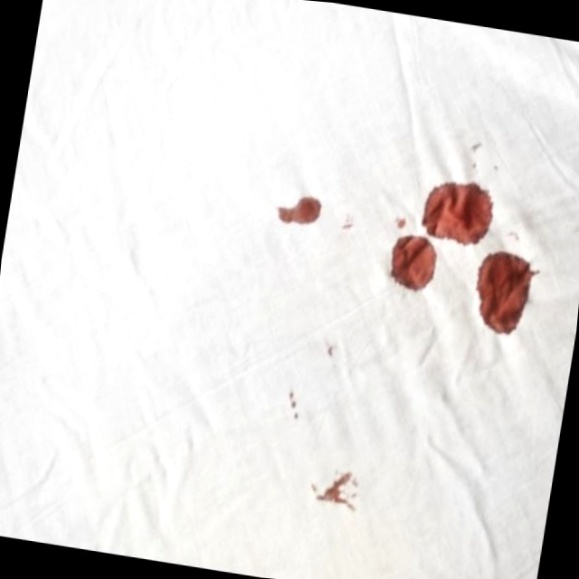blood: (472, 249, 541, 337), (423, 181, 495, 241), (389, 234, 438, 290), (275, 193, 323, 227)
